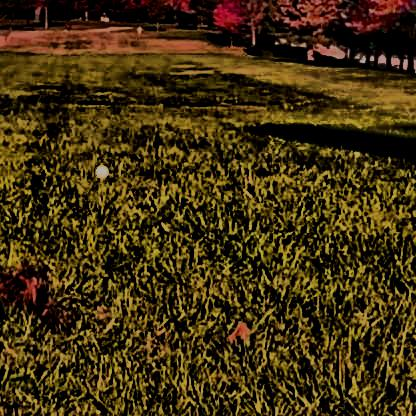golfball: (92, 162, 106, 176)
